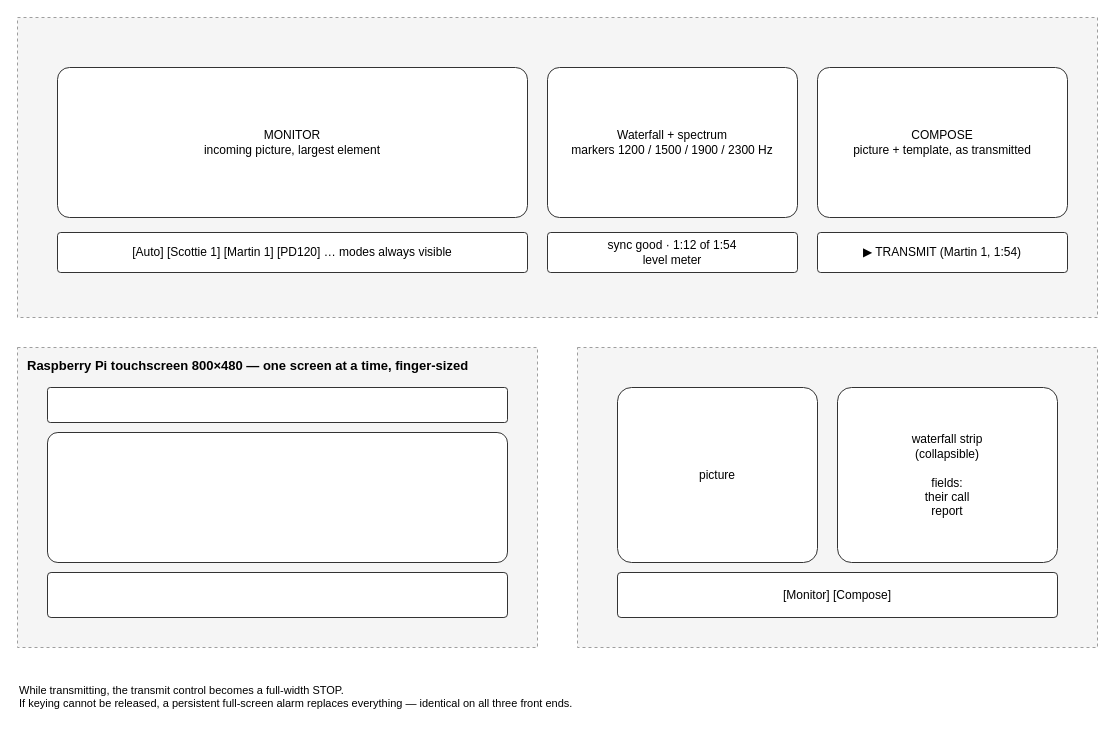
Image size: 1115x745. Some labels were removed from this diagram. The box of each missing label's shape, as (x1, y1, x2, y2) in pixels:
[Monitor] [Compose] [Library] [Log] [Station] 44px targets: (46, 572, 508, 618)
Desktop (Linux, macOS) — Monitor and Compose side by side: (16, 16, 1098, 318)
incoming picture: (46, 432, 508, 562)
MONITOR · Martin 1 · 14.230: (46, 386, 508, 422)
Phone — two primary tabs, VOX operation: (576, 346, 1098, 648)
